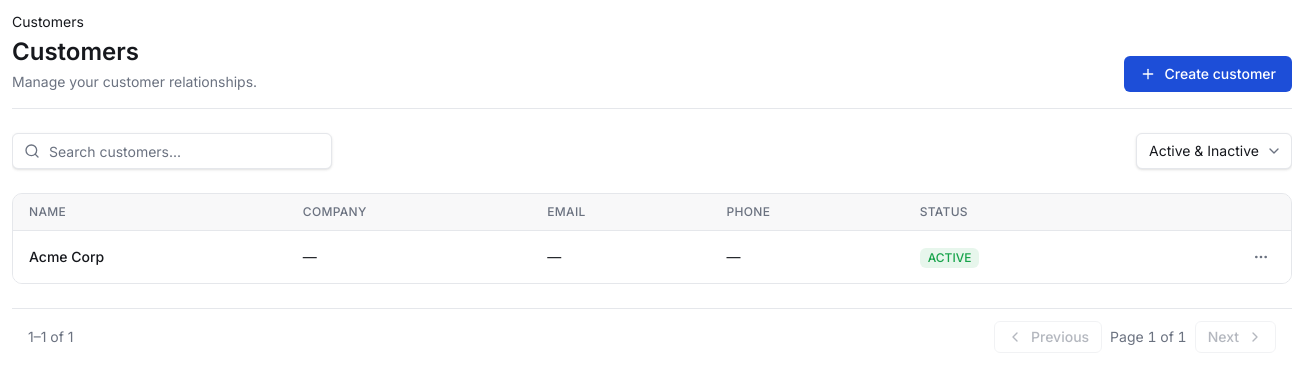
Test case: CustomersListPage RBAC visibility › SALES sees Create customer and Edit, but not Archive
Expected: the link "Acme Corp" is shown, [29,248,104,265]
Expected: the button "Create customer" is shown, [1124,56,1292,92]
Click the button named "Actions for Acme Corp": [1261, 257] box [1247,243,1275,271]
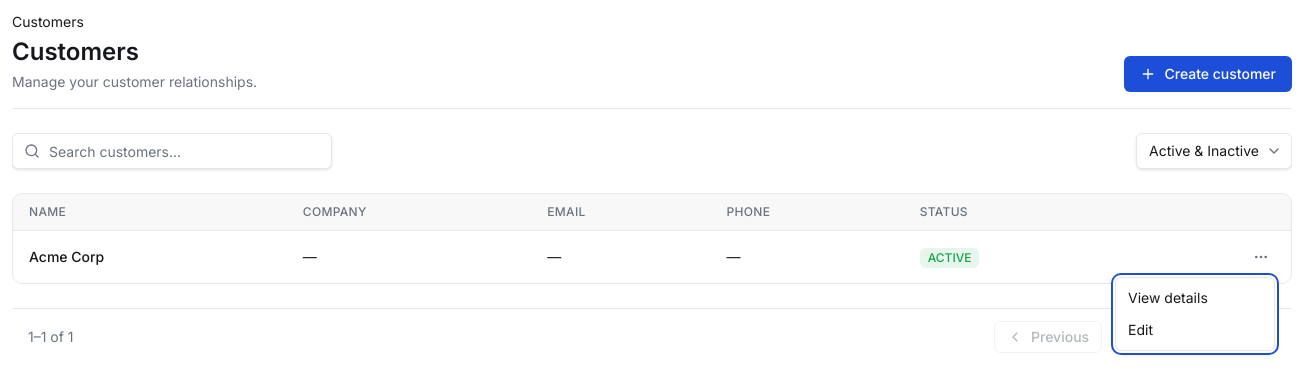
Now the menu item "Edit" is shown, box [1128,321,1153,338]
